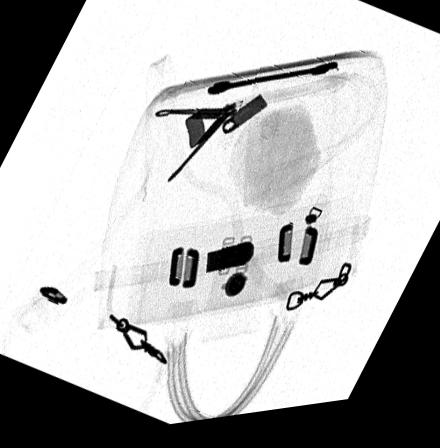Wrench: (206, 68, 341, 102)
